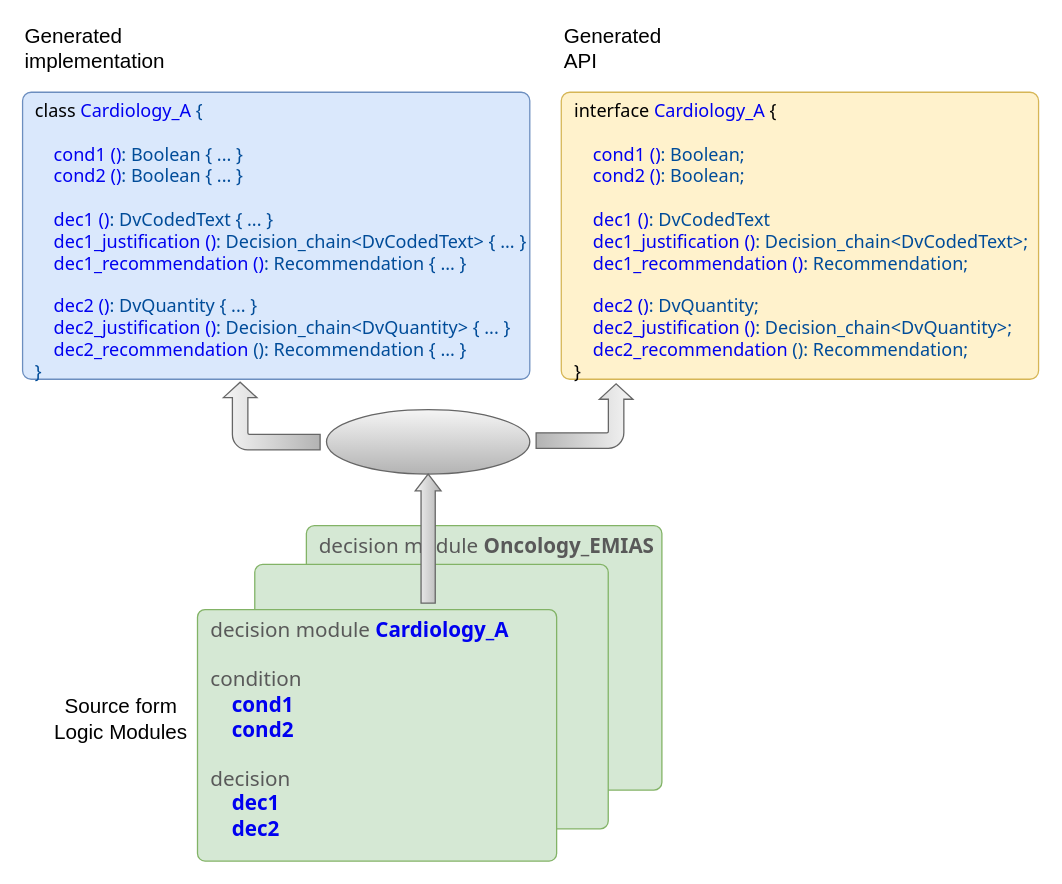
Some shapes in this 1062 by 884 pixel diagram are drawn without their labels. Each missing label, with the box of its shape:
decision module Obstetrics_NICE: (253, 563, 608, 829)
Logic Module Compiler: (325, 408, 530, 474)
